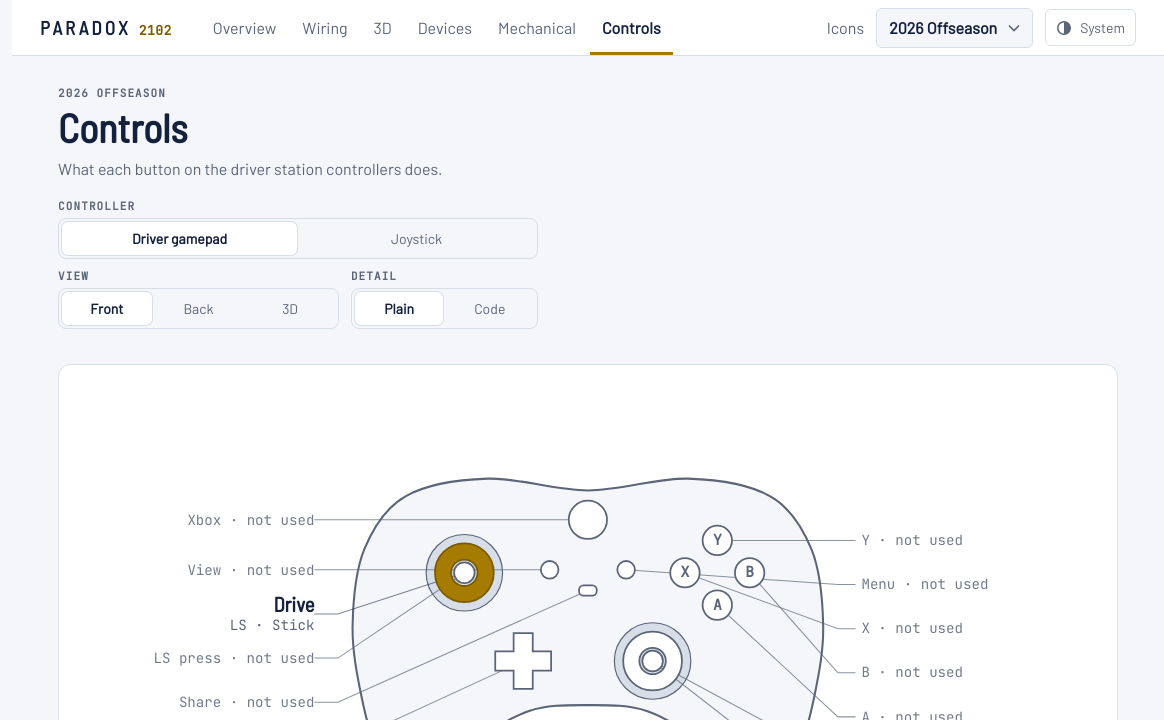
Scenario: Code shows the code line under each binding
The width and height of the screenshot is (1164, 720).
Click the radio button labelled "Code": click(490, 308) [474, 300, 505, 317]
(page scrolled)
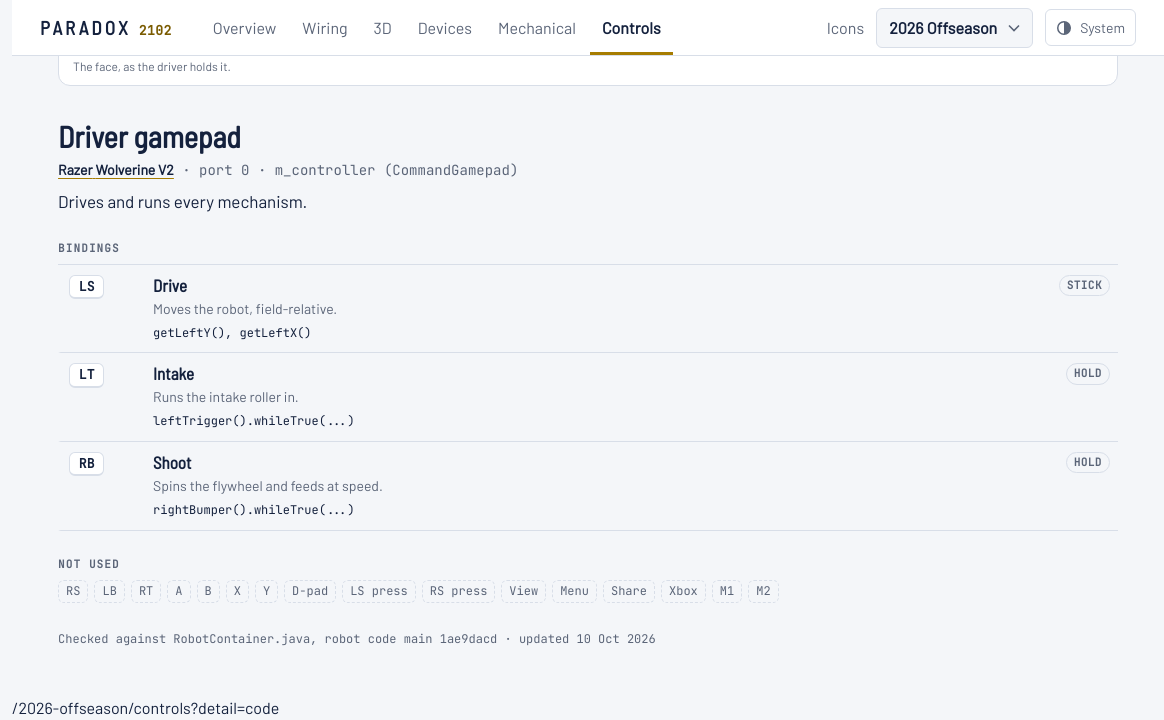
Result: the text with test id "where" reads "/2026-offseason/controls?detail=code" at [12, 698, 279, 716]
Result: the text "rightBumper().whileTrue(...)" is shown at [153, 502, 355, 518]
